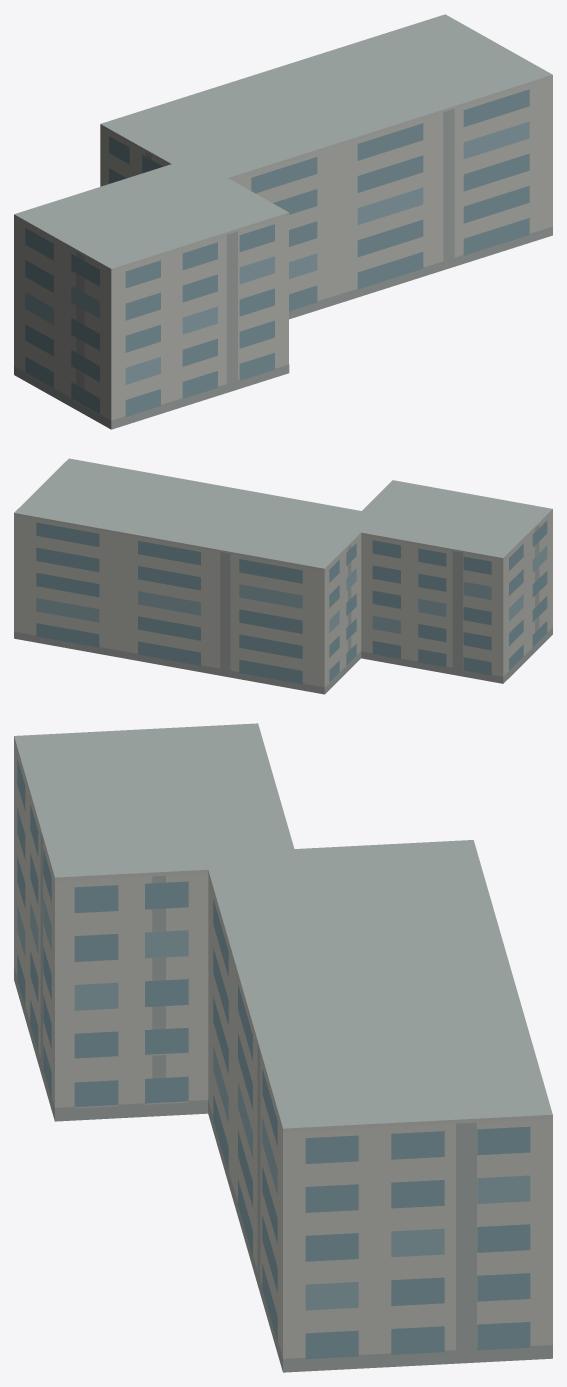
The model's file is residential-39cd54ab-c293-4d1e-b07c-ff712ce575f1.glb.
The picture shows the model from 3 angles, top to bottom: view 1: azimuth 30°, elevation 25°; view 2: azimuth 150°, elevation 25°; view 3: azimuth 270°, elevation 25°; orthographic projection. The views are drawn at different scales.
Visible parts, largest first — view 1: residential-39cd54ab-c293-4d1e-b07c-ff712ce575f1.tmp; view 2: residential-39cd54ab-c293-4d1e-b07c-ff712ce575f1.tmp; view 3: residential-39cd54ab-c293-4d1e-b07c-ff712ce575f1.tmp.
Boxes of the visible parts, box(x1,y1,x2,y2) form: residential-39cd54ab-c293-4d1e-b07c-ff712ce575f1.tmp: box(14, 14, 552, 429); residential-39cd54ab-c293-4d1e-b07c-ff712ce575f1.tmp: box(14, 458, 552, 694); residential-39cd54ab-c293-4d1e-b07c-ff712ce575f1.tmp: box(14, 723, 552, 1372).
Size of the model in its own units: 54.33 by 15.25 by 30.54.
